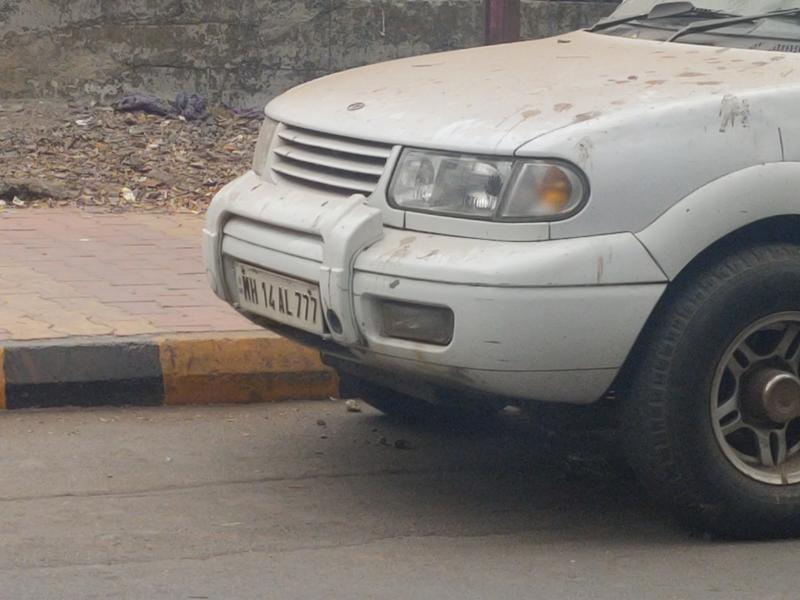license_plate: (227, 251, 341, 348)
